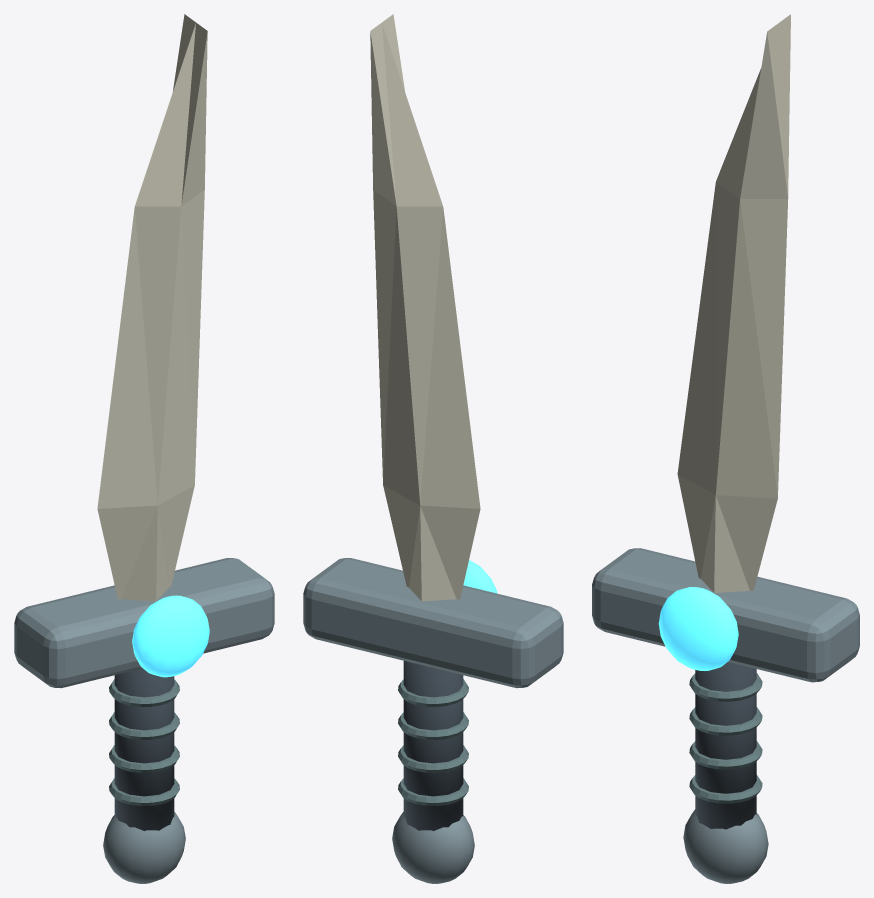
Rendered from YK_00_Muk_Weapon_E00.glb.
The picture shows the model from 3 angles, left to right: view 1: azimuth 30°, elevation 25°; view 2: azimuth 150°, elevation 25°; view 3: azimuth 330°, elevation 25°; orthographic projection. The views are drawn at different scales.
Parts seen in each view (by area): view 1: SM_YK_00_Muk_Weapon_P00; view 2: SM_YK_00_Muk_Weapon_P00; view 3: SM_YK_00_Muk_Weapon_P00.
Boxes of the visible parts, x1=… form: SM_YK_00_Muk_Weapon_P00: x1=14, y1=14, x2=274, y2=883; SM_YK_00_Muk_Weapon_P00: x1=303, y1=14, x2=563, y2=883; SM_YK_00_Muk_Weapon_P00: x1=592, y1=14, x2=859, y2=883.
Size of the model in its own units: 0.4 by 1.41 by 0.18.
